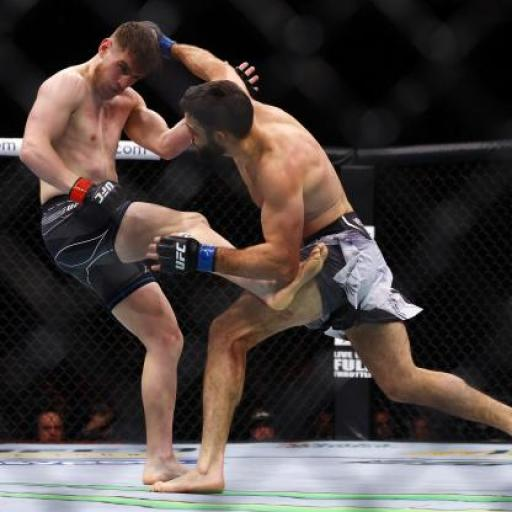Fighting: (21, 21, 512, 492)
